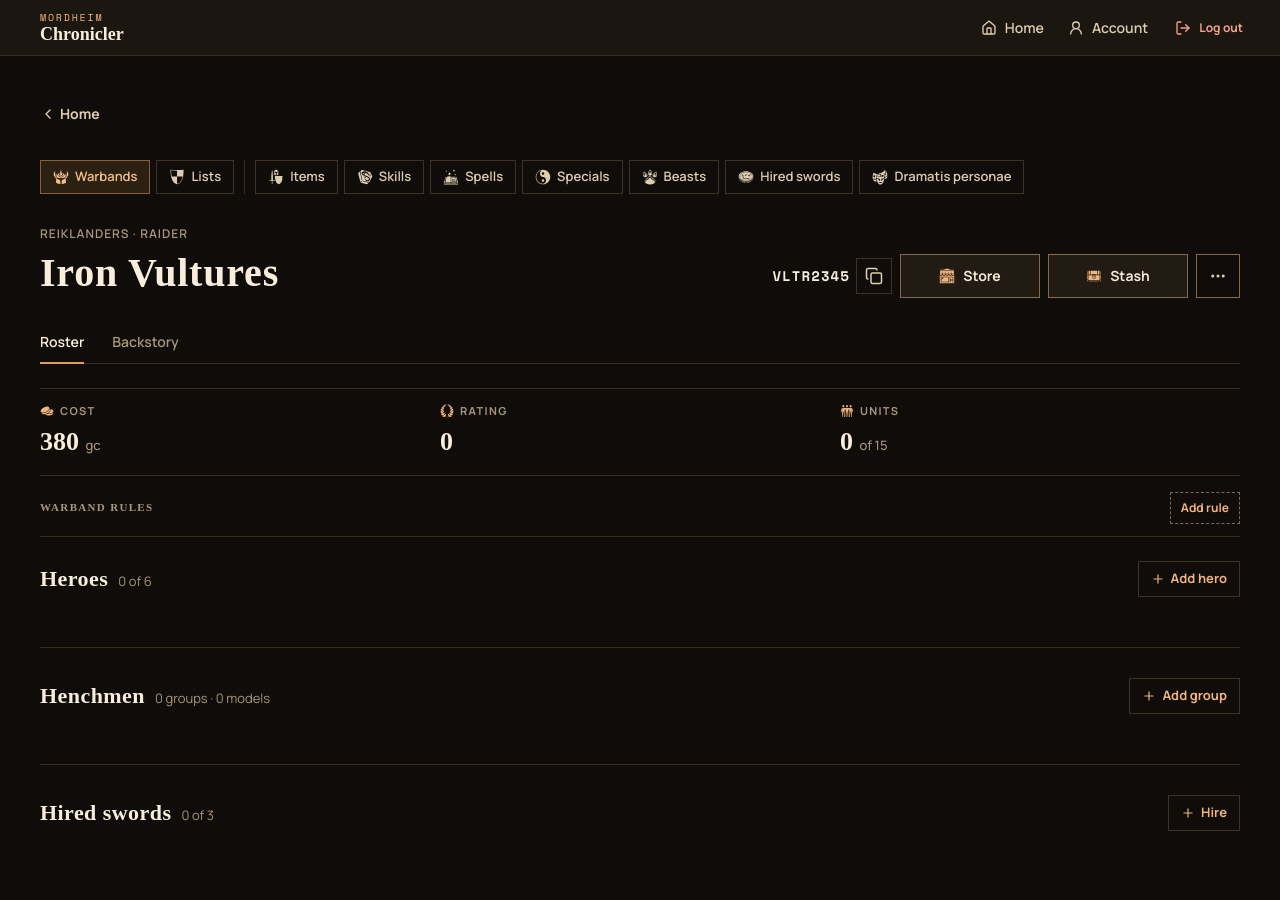
Scenario: the warband page and the workshop › shows a workshop warband with its code and its running cost alone, and offers no copy
The image size is (1280, 900).
Expected: the text "VLTR2345" is shown, top-left (772, 266), bottom-right (850, 286)
Expected: the text "380" reads "380 gc", top-left (40, 426), bottom-right (101, 456)
Click the button named "More warband actions" at [1218, 276], box top-left (1196, 254), bottom-right (1240, 298)
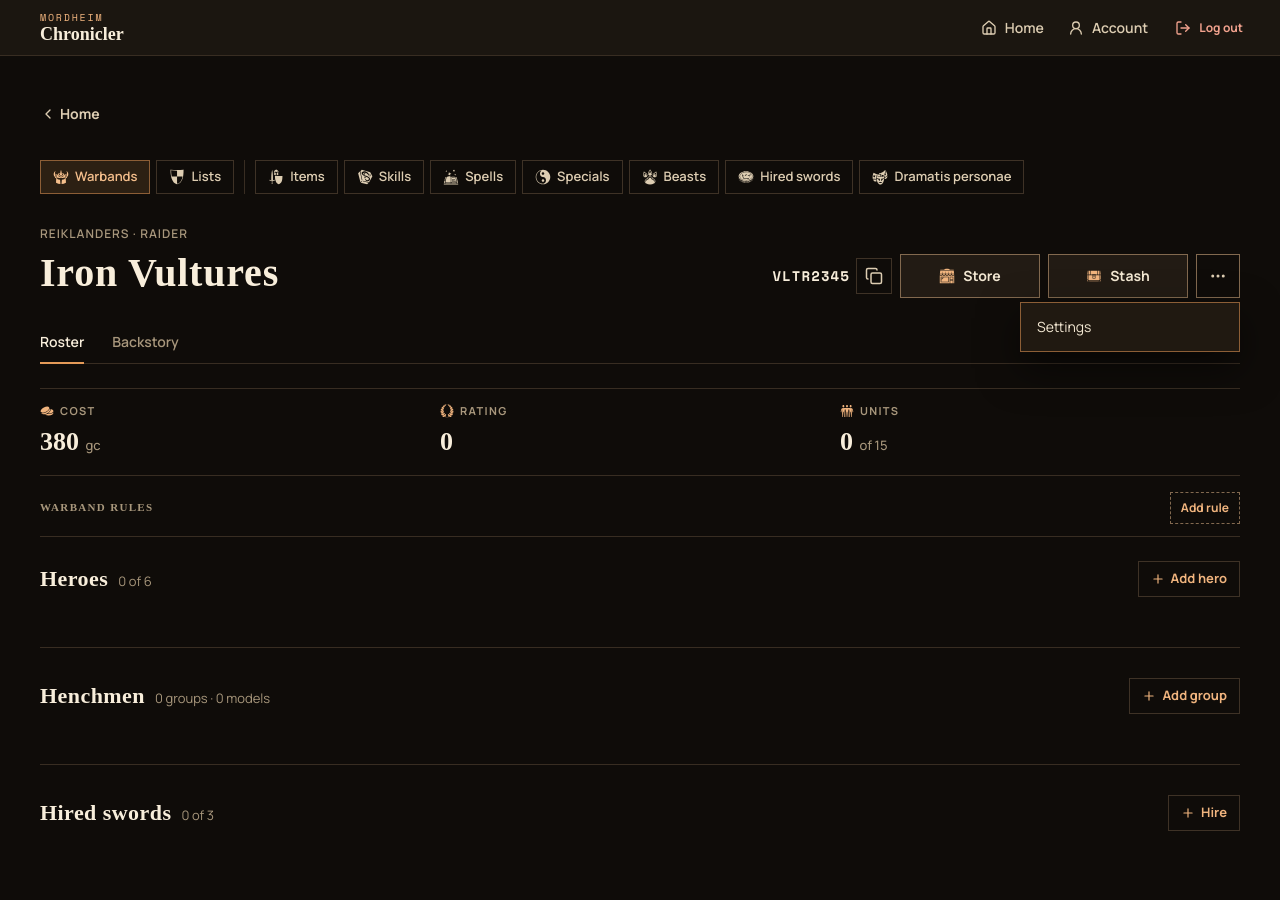
Expected: the menu item "Settings" is shown, top-left (1037, 317), bottom-right (1091, 336)
